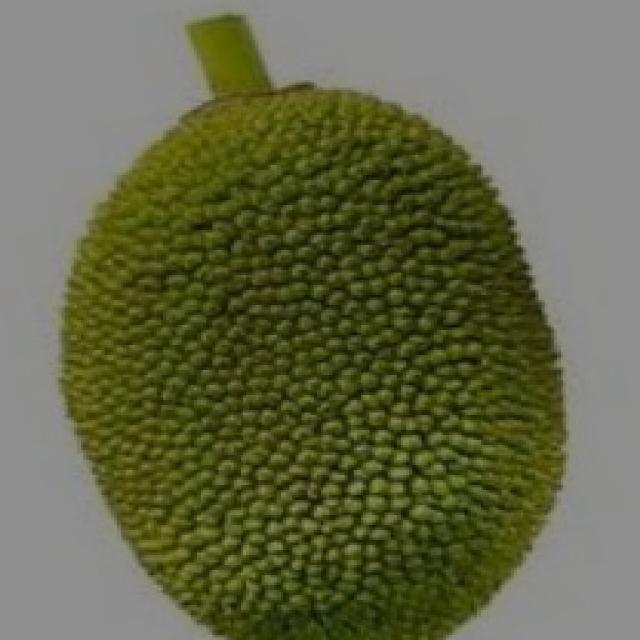Fruit: (28, 65, 458, 490), (305, 252, 609, 640), (203, 42, 609, 320)
